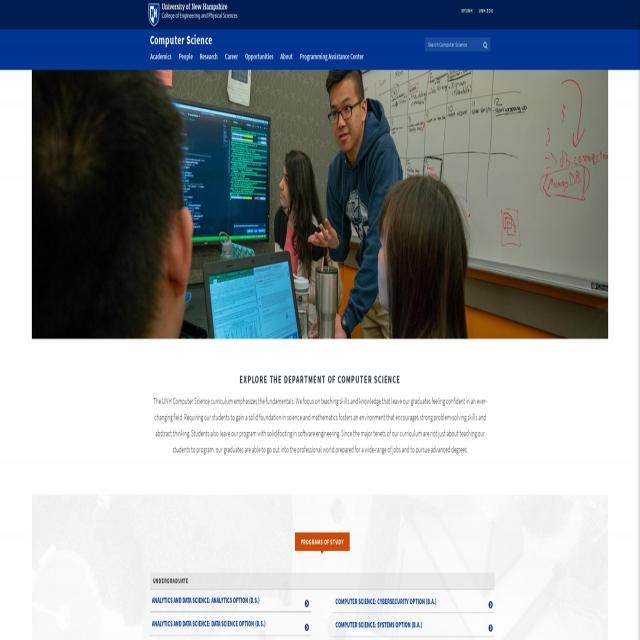button: (32, 69, 608, 340), (333, 590, 496, 613), (334, 613, 495, 636), (150, 590, 311, 612), (150, 612, 311, 634), (148, 3, 244, 26), (297, 48, 368, 66), (294, 532, 350, 550), (150, 32, 212, 48), (242, 49, 277, 68), (147, 49, 175, 68), (196, 49, 222, 67), (458, 0, 476, 21), (175, 49, 196, 67), (221, 49, 241, 67), (476, 0, 493, 21), (278, 49, 297, 67), (482, 40, 491, 51)
field: (424, 37, 490, 52)
